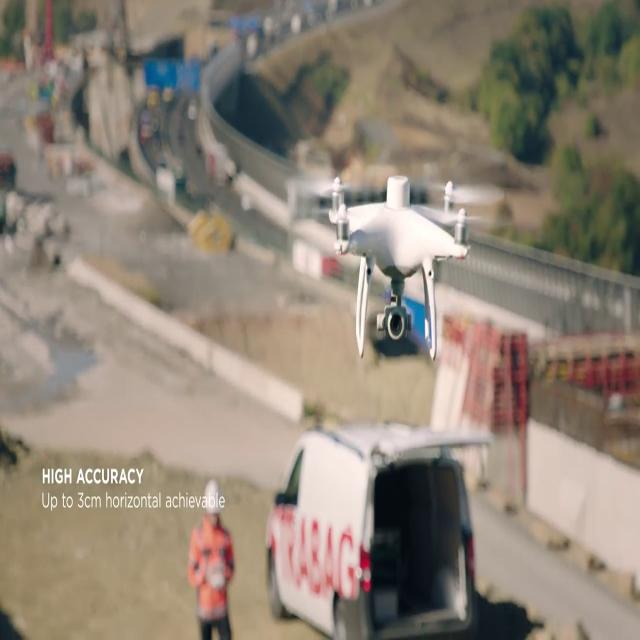drone: (283, 170, 505, 359)
